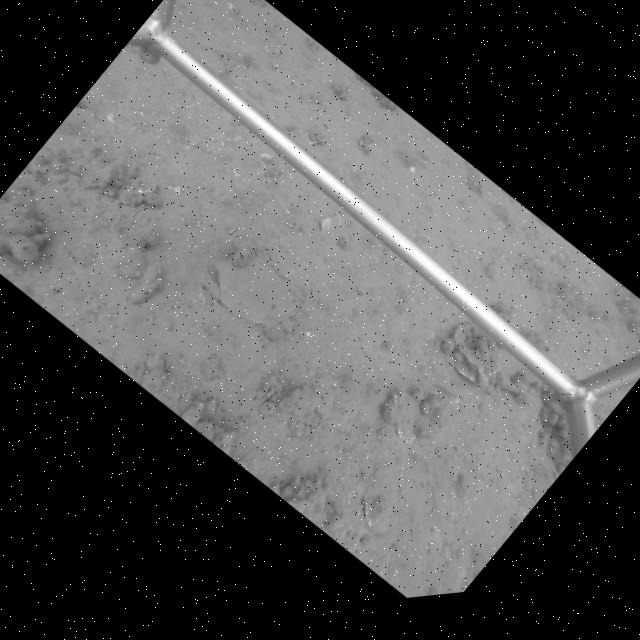Oyster-Closed: (214, 253, 307, 328)
